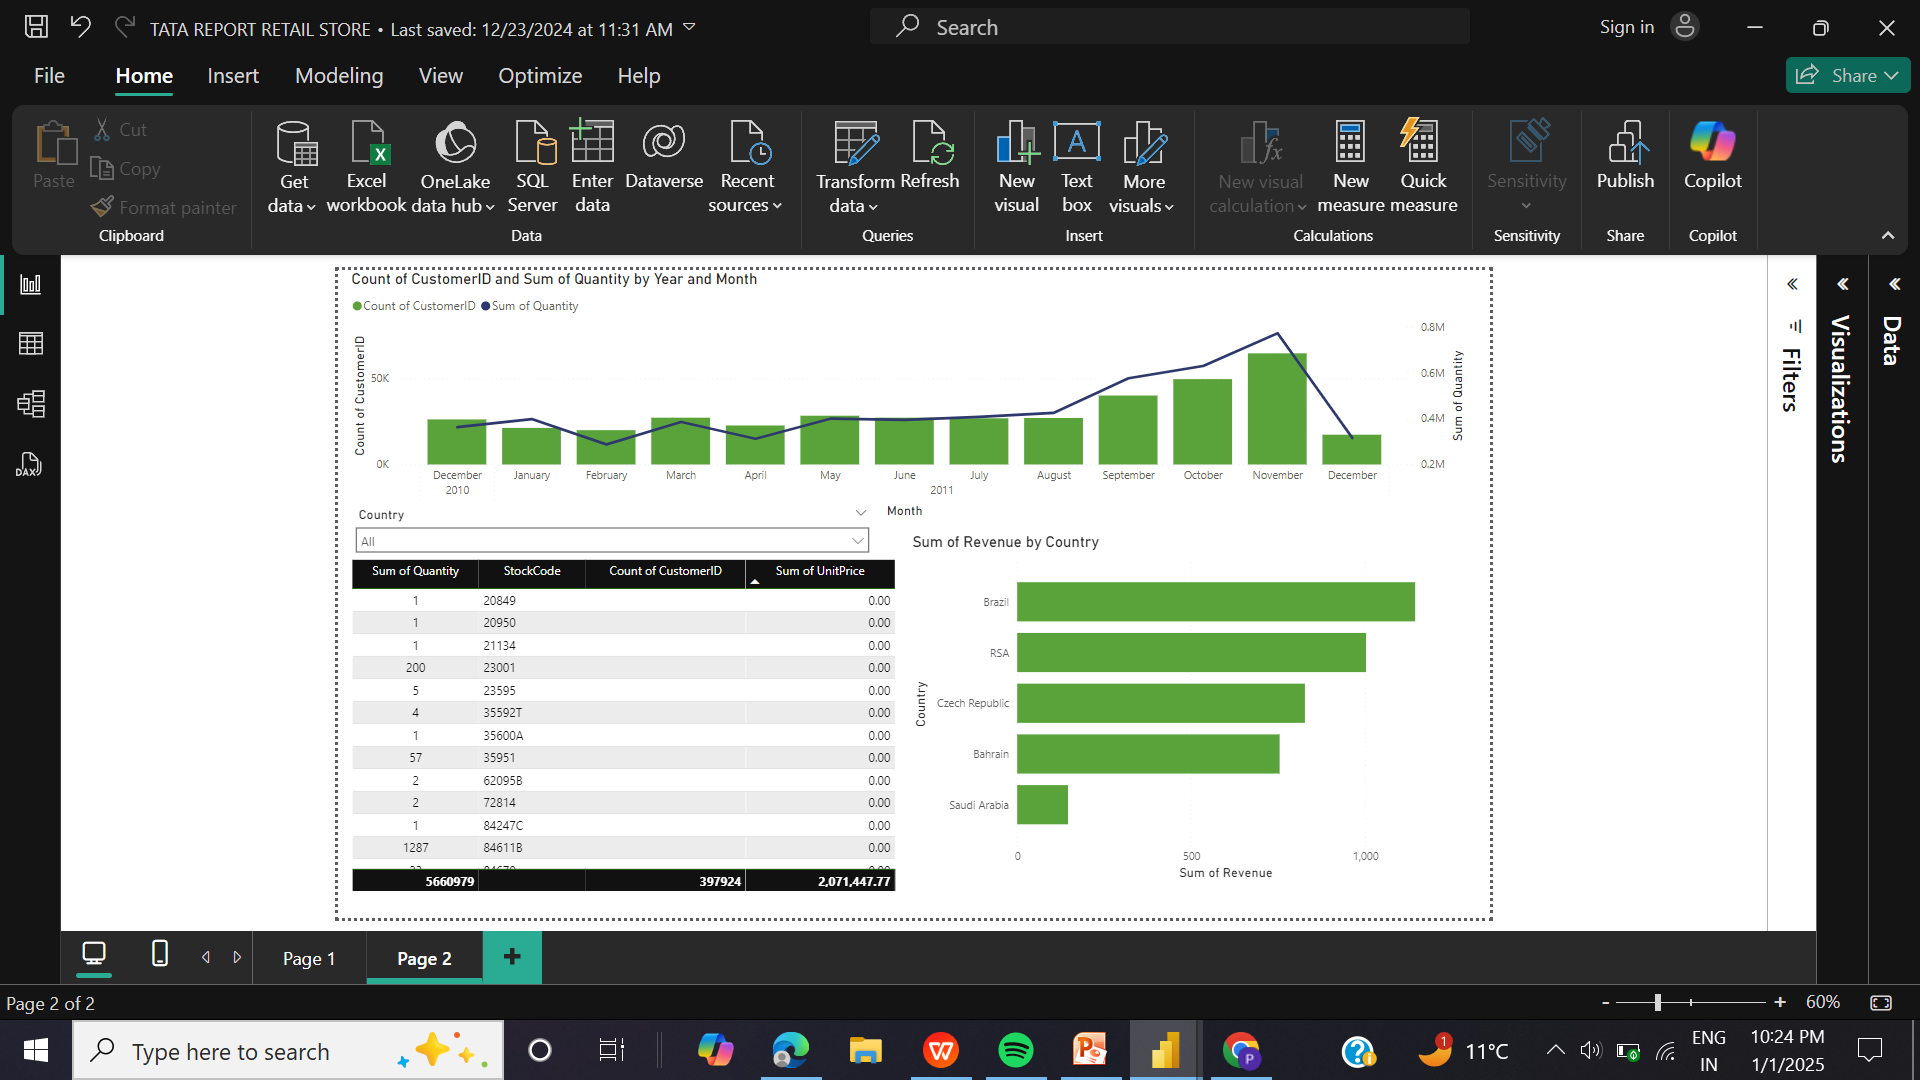

The page's visual inventory and layout, read from the dashboard file:
{"tool":"powerbi","page":{"name":"Page 2","canvas":[1280,720],"ordinal":1},"visuals":[{"type":"lineStackedColumnComboChart","fields":{"Y":["CountNonNull(Sheet1.CustomerID)"],"Category":["Sheet1.InvoiceDate.Variation.Date Hierarchy.Year","Sheet1.InvoiceDate.Variation.Date Hierarchy.Month"],"Y2":["Sum(Sheet1.Quantity)"]},"box":[9.8,0,1245.9,279.8],"z":0},{"type":"tableEx","fields":{"Values":["Sum(Sheet1.Quantity)","Sheet1.StockCode","CountNonNull(Sheet1.CustomerID)","Sum(Sheet1.UnitPrice)"]},"box":[10,316.7,641.7,378.3],"z":1000},{"type":"clusteredBarChart","fields":{"Category":["Sheet1.Country"],"Y":["Sum(Sheet1.Revenue)"]},"box":[633.3,291.7,605,390],"z":2000},{"type":"slicer","fields":{"Values":["Sheet1.Country"]},"box":[10,258.3,590,58.3],"z":3000}]}

Visuals, with their boxes on the page's 1280x720 design canvas (x1, y1, x2, y2). These are canvas units, not pixel positions in the 1920x1080 screenshot, which may show the page scaled, cropped or inside an application window:
lineStackedColumnComboChart - CountNonNull(Sheet1.CustomerID) x Sheet1.InvoiceDate.Variation.Date Hierarchy.Year: bbox=[10, 0, 1256, 280]
tableEx - Sum(Sheet1.Quantity) x Sheet1.StockCode: bbox=[10, 317, 652, 695]
clusteredBarChart - Sheet1.Country x Sum(Sheet1.Revenue): bbox=[633, 292, 1238, 682]
slicer - Sheet1.Country: bbox=[10, 258, 600, 317]
